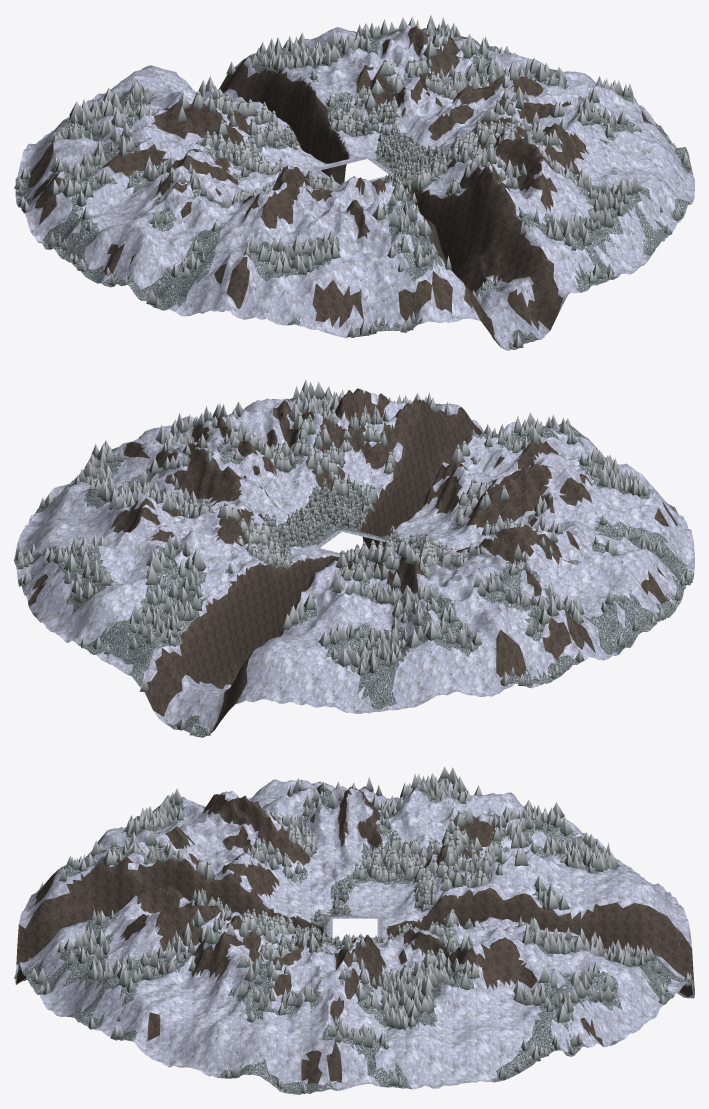
File: backdrop_near_rect_bluffs_winter.glb
3 renders of one model, top to bottom at view 1: azimuth 30°, elevation 25°; view 2: azimuth 150°, elevation 25°; view 3: azimuth 270°, elevation 25°, orthographic.
Visible parts, largest first — view 1: near_land_S, near_land_W, near_land_E, near_land_N, trees_land_S_0, trees_land_W_0, trees_land_E_0, trees_land_N_0; view 2: near_land_N, near_land_W, near_land_E, near_land_S, trees_land_N_0, trees_land_E_0, trees_land_W_0, trees_land_S_0; view 3: near_land_E, near_land_S, near_land_N, near_land_W, trees_land_E_0, trees_land_N_0, trees_land_W_0, trees_land_S_0.
Part boxes in pixels (x1=…): near_land_S: x1=266, y1=126, x2=683, y2=350; near_land_W: x1=15, y1=102, x2=322, y2=319; near_land_E: x1=364, y1=26, x2=694, y2=217; near_land_N: x1=27, y1=24, x2=427, y2=184; trees_land_S_0: x1=275, y1=127, x2=681, y2=348; trees_land_W_0: x1=14, y1=91, x2=331, y2=307; trees_land_E_0: x1=375, y1=17, x2=691, y2=215; trees_land_N_0: x1=79, y1=14, x2=436, y2=149; near_land_N: x1=26, y1=512, x2=442, y2=737; near_land_W: x1=394, y1=463, x2=694, y2=696; near_land_E: x1=14, y1=398, x2=346, y2=595; near_land_S: x1=275, y1=388, x2=678, y2=549; trees_land_N_0: x1=53, y1=501, x2=424, y2=735; trees_land_E_0: x1=15, y1=396, x2=341, y2=585; trees_land_W_0: x1=389, y1=474, x2=692, y2=686; trees_land_S_0: x1=293, y1=380, x2=644, y2=538; near_land_E: x1=116, y1=915, x2=595, y2=1094; near_land_S: x1=15, y1=816, x2=331, y2=1039; near_land_N: x1=382, y1=819, x2=694, y2=1047; near_land_W: x1=153, y1=778, x2=594, y2=919; trees_land_E_0: x1=116, y1=908, x2=582, y2=1093; trees_land_N_0: x1=405, y1=812, x2=693, y2=1003; trees_land_W_0: x1=148, y1=766, x2=564, y2=915; trees_land_S_0: x1=14, y1=807, x2=324, y2=1040.
Size of the model in its own units: 576 by 168 by 577.
Materials: 4 (3 with a texture image).
